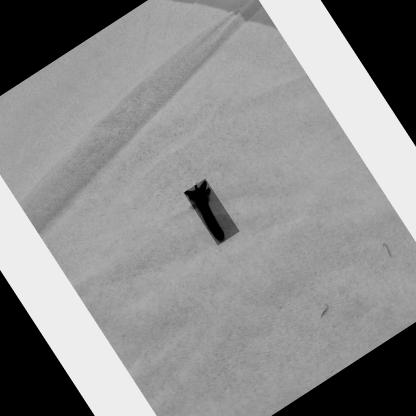buruk: (185, 180, 227, 242)
